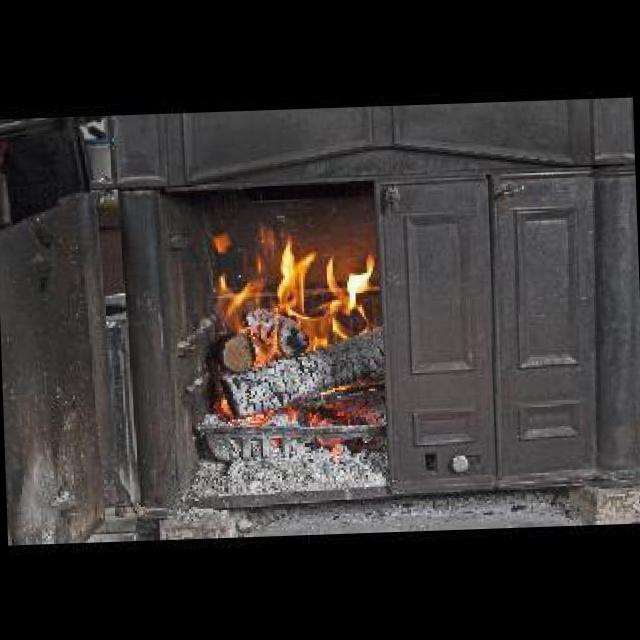Fire: (198, 216, 376, 362)
